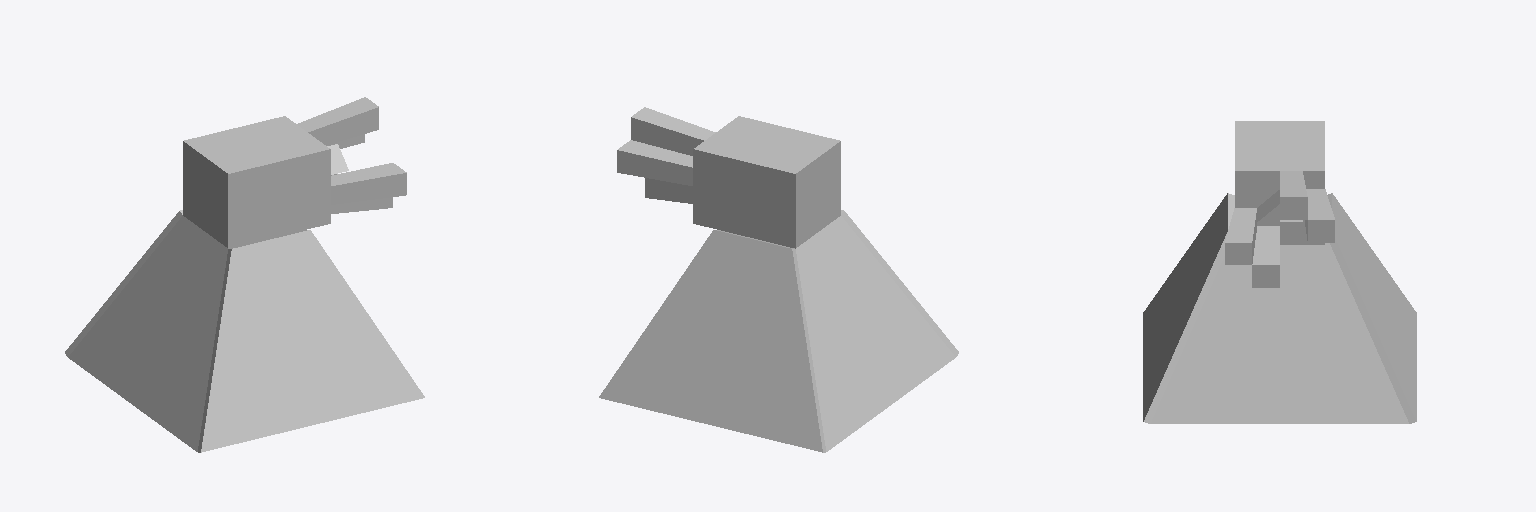
The model's file is construct_welder.obj.
3 renders of one model, left to right at view 1: azimuth 30°, elevation 25°; view 2: azimuth 150°, elevation 25°; view 3: azimuth 270°, elevation 25°, orthographic.
Visible parts, largest first — view 1: Cube.001_Cube.003; view 2: Cube.001_Cube.003; view 3: Cube.001_Cube.003.
Part boxes in pixels (left/top/right/bottom): Cube.001_Cube.003: left=65, top=97, right=424, bottom=452; Cube.001_Cube.003: left=599, top=107, right=958, bottom=452; Cube.001_Cube.003: left=1143, top=121, right=1416, bottom=423.
Size of the model in its own units: 1.94 by 1.79 by 1.86.